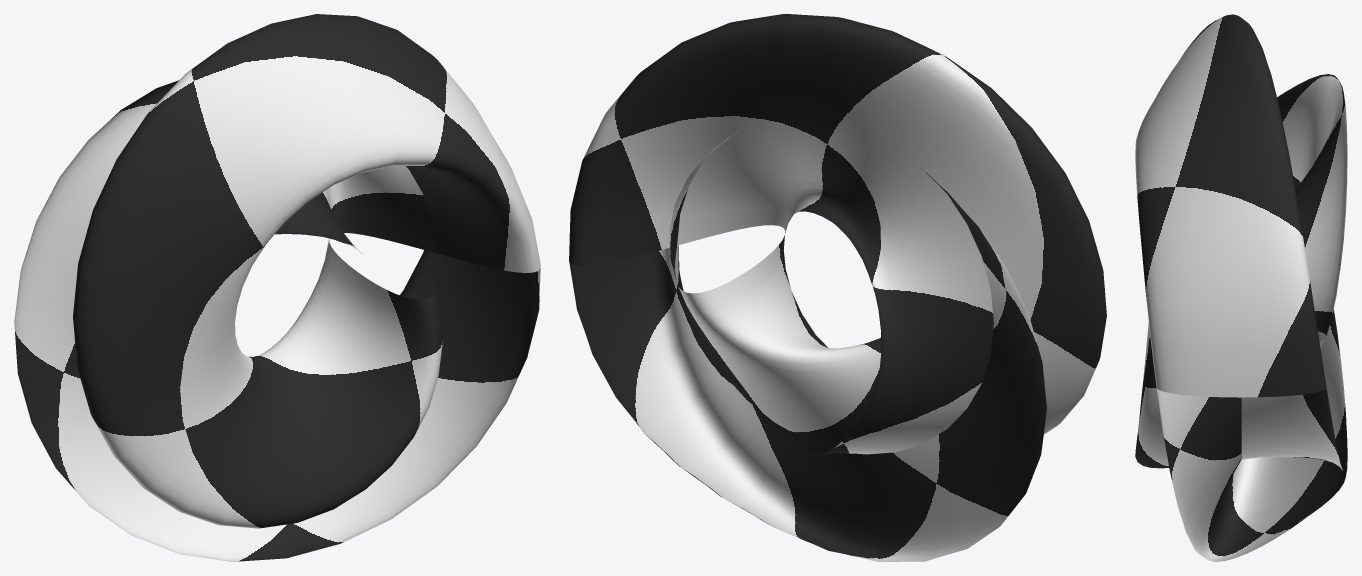
Rendered from klein_bottle_cgal_arap_result.glb.
The picture shows the model from 3 angles, left to right: view 1: azimuth 30°, elevation 25°; view 2: azimuth 150°, elevation 25°; view 3: azimuth 270°, elevation 25°; orthographic projection. The views are drawn at different scales.
Parts seen in each view (by area): view 1: parameterized; view 2: parameterized; view 3: parameterized.
Boxes of the visible parts, left/top/right/bottom form: parameterized: left=14, top=14, right=540, bottom=561; parameterized: left=569, top=14, right=1106, bottom=561; parameterized: left=1135, top=14, right=1347, bottom=561.
Size of the model in its own units: 300 by 324 by 125.
1 material, 1 textured.
